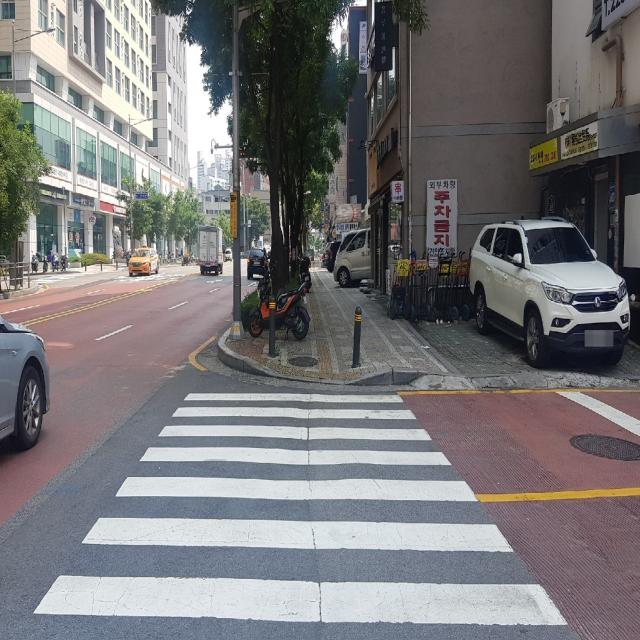횡단보도: (34, 393, 568, 626)
